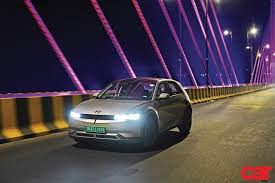Honda Ioniq: (65, 72, 202, 161)
